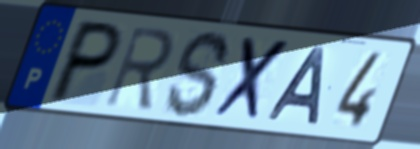4: (332, 50, 386, 132)
A: (264, 46, 328, 128)
P: (43, 17, 128, 105)
R: (101, 23, 177, 113)
S: (163, 28, 233, 121)
X: (209, 34, 295, 126)
